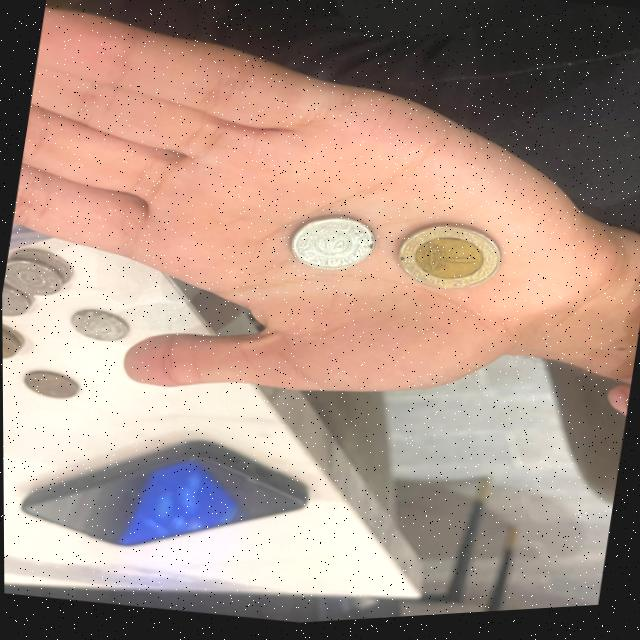One Pound: (385, 201, 517, 316)
quarter pound: (273, 202, 385, 292)
